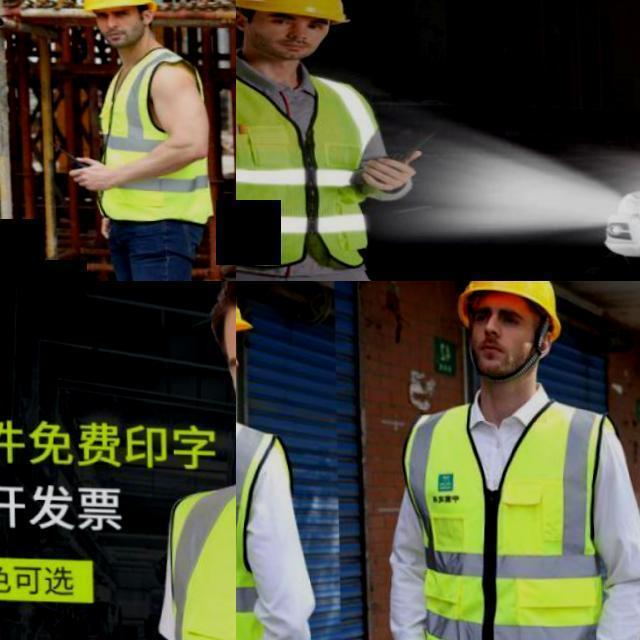safety_helmet: (136, 205, 503, 526), (161, 160, 304, 205)
